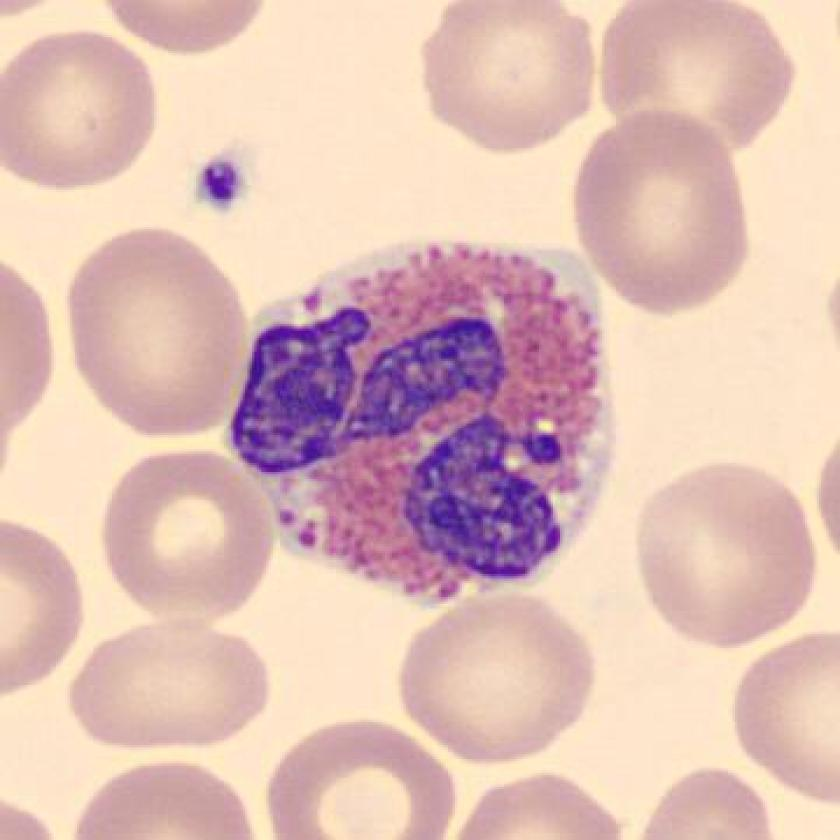eosinophil: (211, 219, 633, 617)
